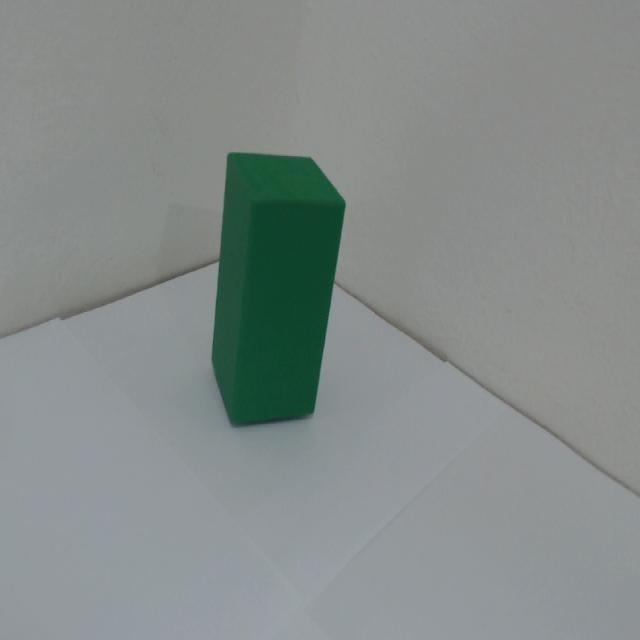cube: (193, 133, 373, 508)
